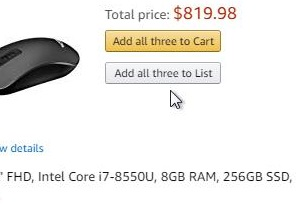cursor: (168, 88, 184, 111)
